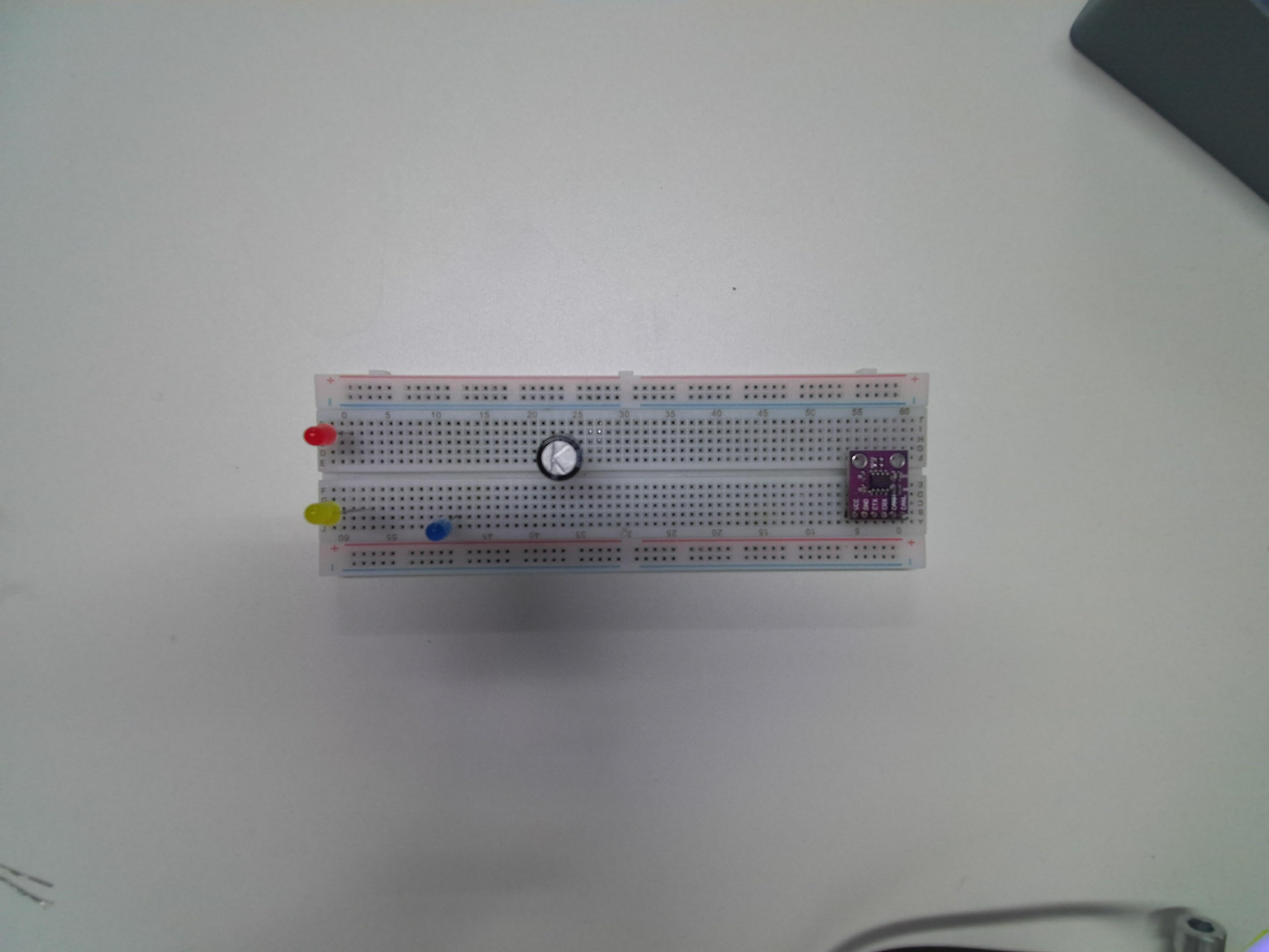base: (310, 372, 932, 581)
blue-led: (426, 517, 450, 543)
capacitor: (539, 436, 582, 481)
purple-board: (844, 449, 910, 523)
red-led: (304, 422, 336, 446)
yellow-led: (304, 500, 342, 528)
